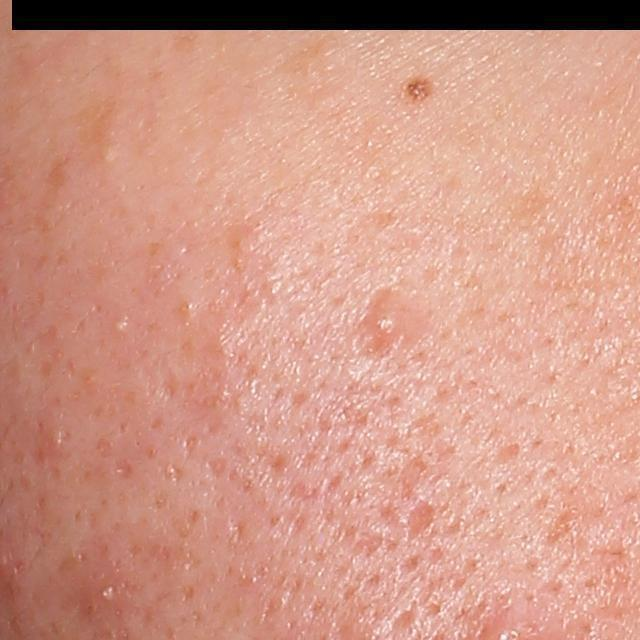atrophic_scar: (405, 498, 434, 545)
comedo: (111, 318, 131, 334)
melasma: (71, 94, 120, 143)
nevus: (395, 73, 434, 106)
papule: (351, 285, 425, 358), (71, 561, 132, 630)
